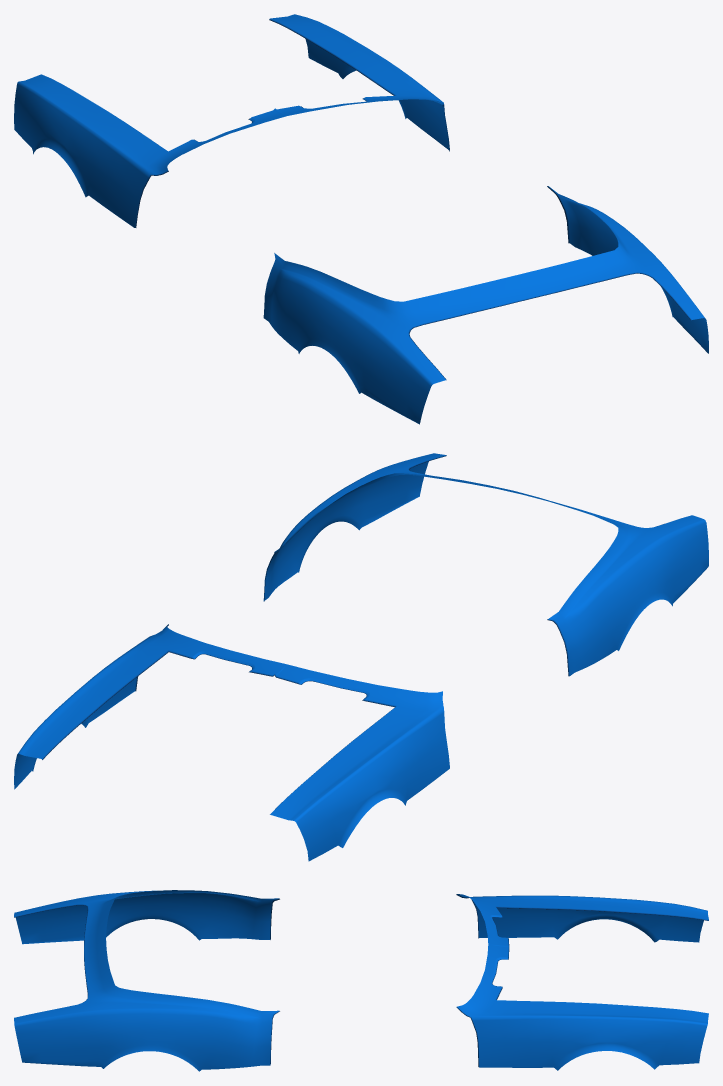
Rendered from Camaro_Fender01_Duco.fbx.
3 renders of one model, top to bottom at view 1: azimuth 30°, elevation 25°; view 2: azimuth 150°, elevation 25°; view 3: azimuth 270°, elevation 25°, orthographic. The views are drawn at different scales.
Parts seen in each view (by area): view 1: Camaro_Fender01_Duco; view 2: Camaro_Fender01_Duco; view 3: Camaro_Fender01_Duco.
Boxes of the visible parts, bbox=[...] form: Camaro_Fender01_Duco: bbox=[14, 14, 708, 424]; Camaro_Fender01_Duco: bbox=[14, 453, 708, 861]; Camaro_Fender01_Duco: bbox=[14, 890, 708, 1071].
Bounding box in the file's own units: 1.9 × 4.2 × 0.4523.
